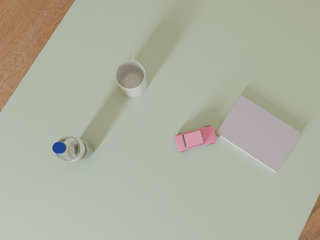book: (215, 95, 301, 172)
bottle: (53, 136, 93, 161)
cup: (115, 54, 147, 97)
toy_car: (175, 126, 217, 152)
